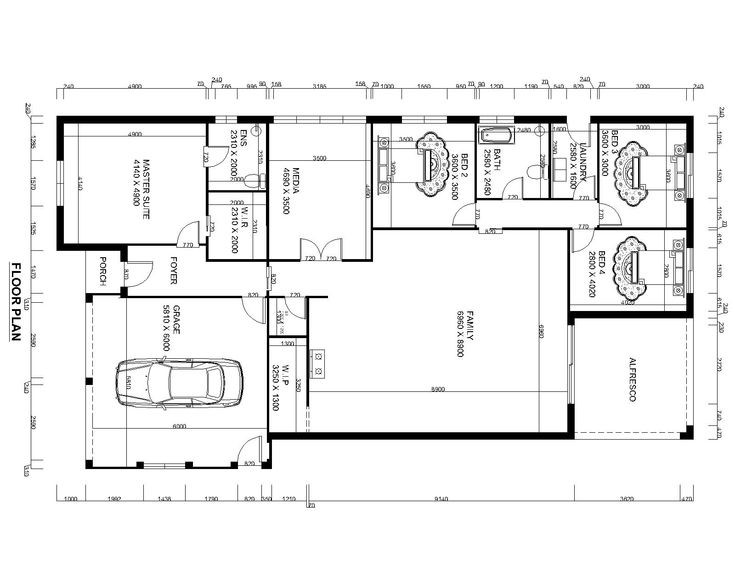door: (297, 233, 343, 265), (123, 254, 160, 289), (238, 431, 264, 471), (175, 212, 202, 250), (500, 173, 535, 202), (278, 291, 308, 320), (574, 227, 597, 257), (602, 206, 629, 231), (570, 176, 593, 196)
room: (269, 255, 583, 437), (370, 118, 696, 234), (91, 297, 278, 477), (57, 120, 272, 258), (563, 231, 694, 314)
wall: (267, 429, 577, 444), (54, 110, 218, 129), (590, 110, 694, 132), (569, 308, 695, 323), (59, 238, 127, 258), (125, 292, 243, 303), (369, 221, 477, 233), (514, 109, 568, 131), (369, 120, 377, 261), (469, 119, 480, 202), (303, 297, 311, 410), (266, 294, 272, 433), (563, 227, 573, 309), (598, 223, 686, 232), (53, 113, 69, 160), (445, 110, 482, 130), (565, 403, 582, 446), (504, 223, 562, 235), (685, 196, 698, 249), (203, 185, 265, 196), (55, 206, 69, 254), (202, 171, 211, 241), (262, 126, 272, 188), (685, 110, 699, 154), (206, 255, 267, 265), (263, 195, 273, 256), (190, 461, 236, 474), (364, 113, 402, 128), (238, 113, 275, 128), (526, 194, 576, 202), (85, 463, 142, 470), (127, 242, 176, 249), (475, 194, 502, 206), (88, 291, 123, 299), (340, 256, 377, 263), (204, 124, 214, 144)
window: (277, 114, 364, 125), (567, 324, 578, 409), (478, 110, 516, 130), (53, 160, 69, 206), (404, 113, 452, 128), (685, 251, 697, 296), (685, 154, 694, 202), (214, 115, 240, 124)
